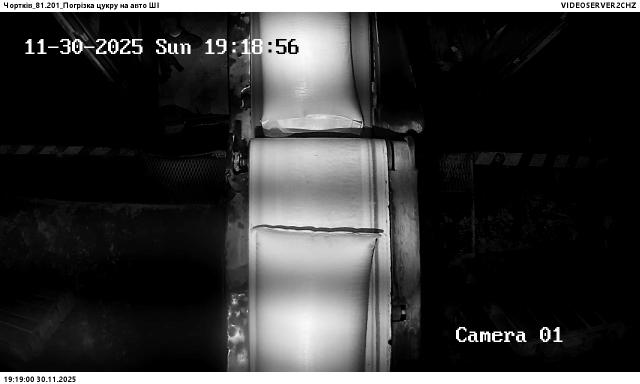bag: (253, 226, 377, 372), (260, 12, 362, 134)
